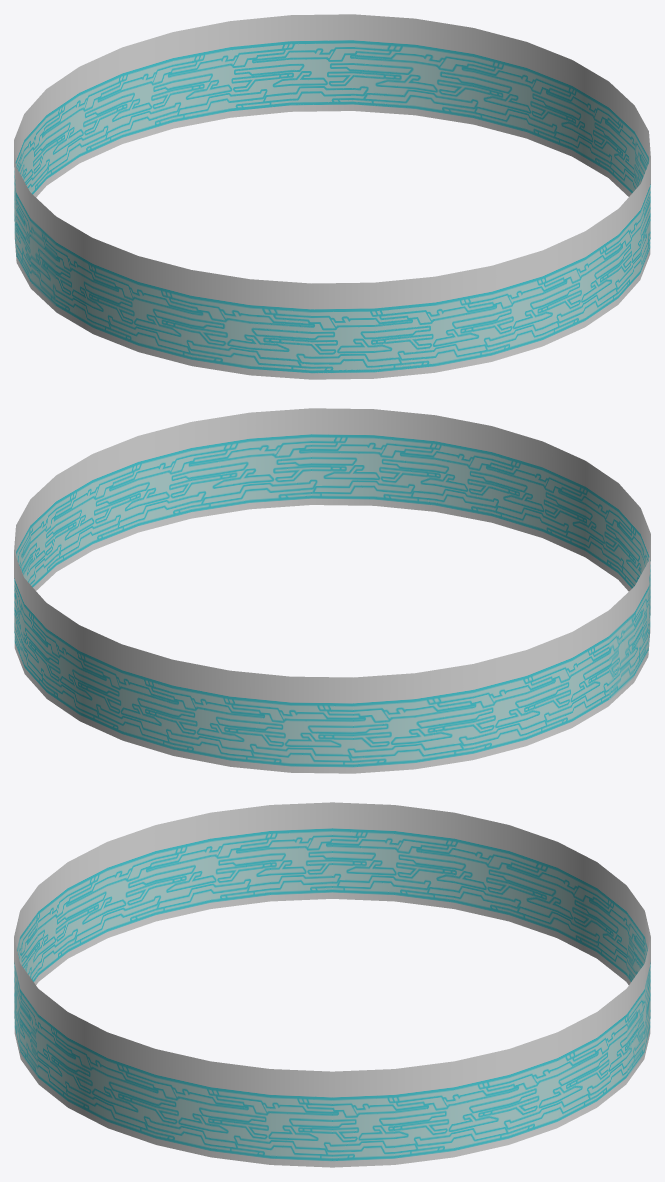
The model's file is aura_vertical.FBX.
The picture shows the model from 3 angles, top to bottom: view 1: azimuth 30°, elevation 25°; view 2: azimuth 150°, elevation 25°; view 3: azimuth 270°, elevation 25°; orthographic projection.
Visible parts, largest first — view 1: aura_vertical; view 2: aura_vertical; view 3: aura_vertical.
Part boxes in pixels (x1,y1,x2,y2): aura_vertical: (14, 14, 650, 379); aura_vertical: (14, 408, 650, 773); aura_vertical: (14, 802, 650, 1167).
Size of the model in its own units: 64.12 by 10.69 by 64.12.
